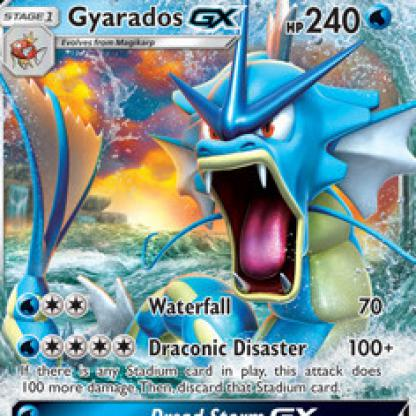Gyarados: (1, 60, 415, 297)
